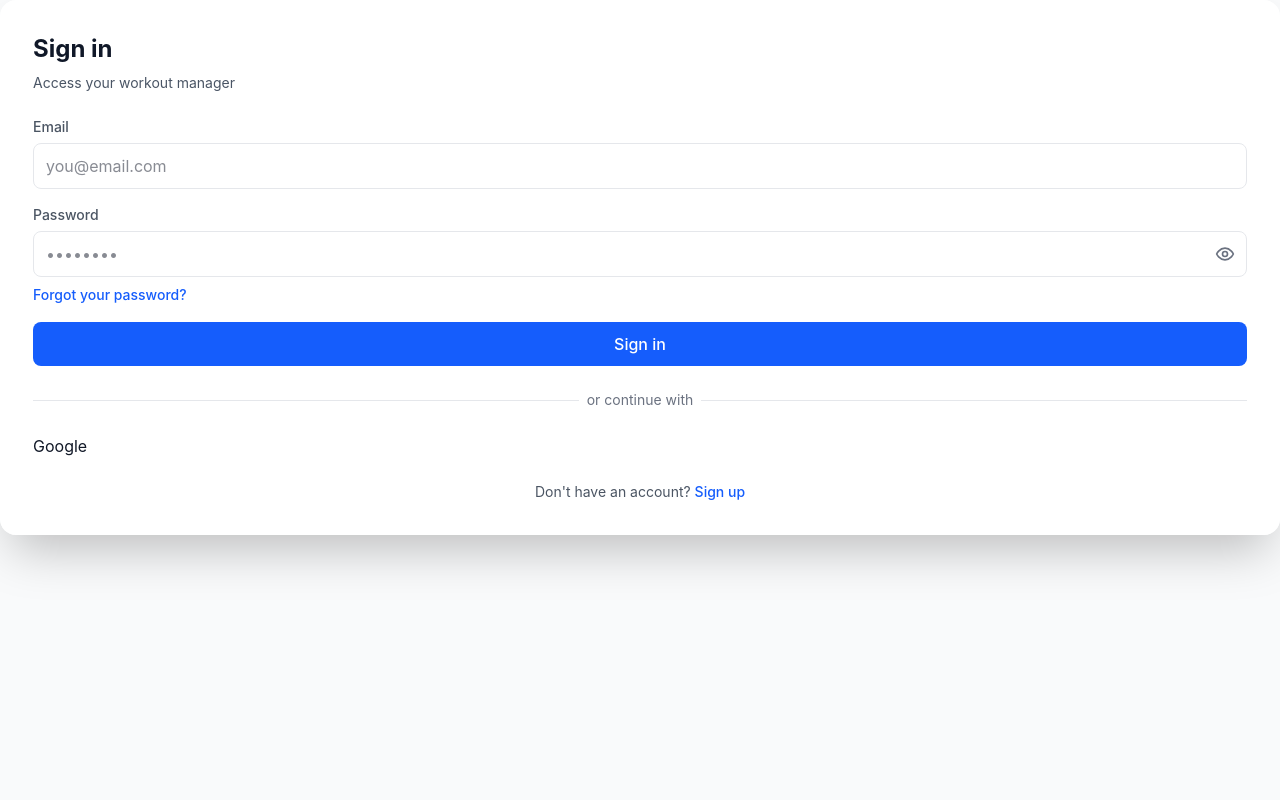
Test: LoginView › muestra aviso de verificación pendiente
The image size is (1280, 800).
Type "user@example.com" into the field with id "email" at (640, 166), box [33,143,1247,189]
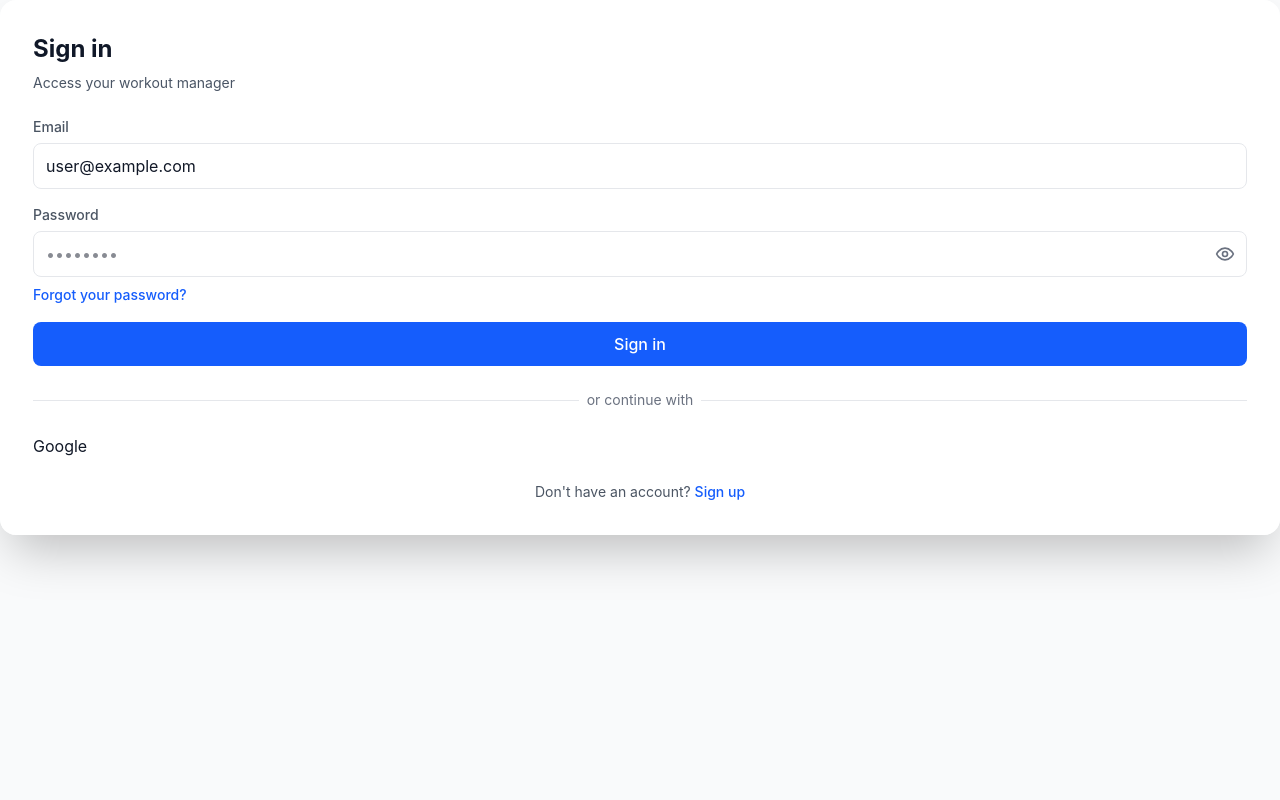
Type "secret123" into the password field labelled "Password" at (640, 254), box [33,231,1247,277]
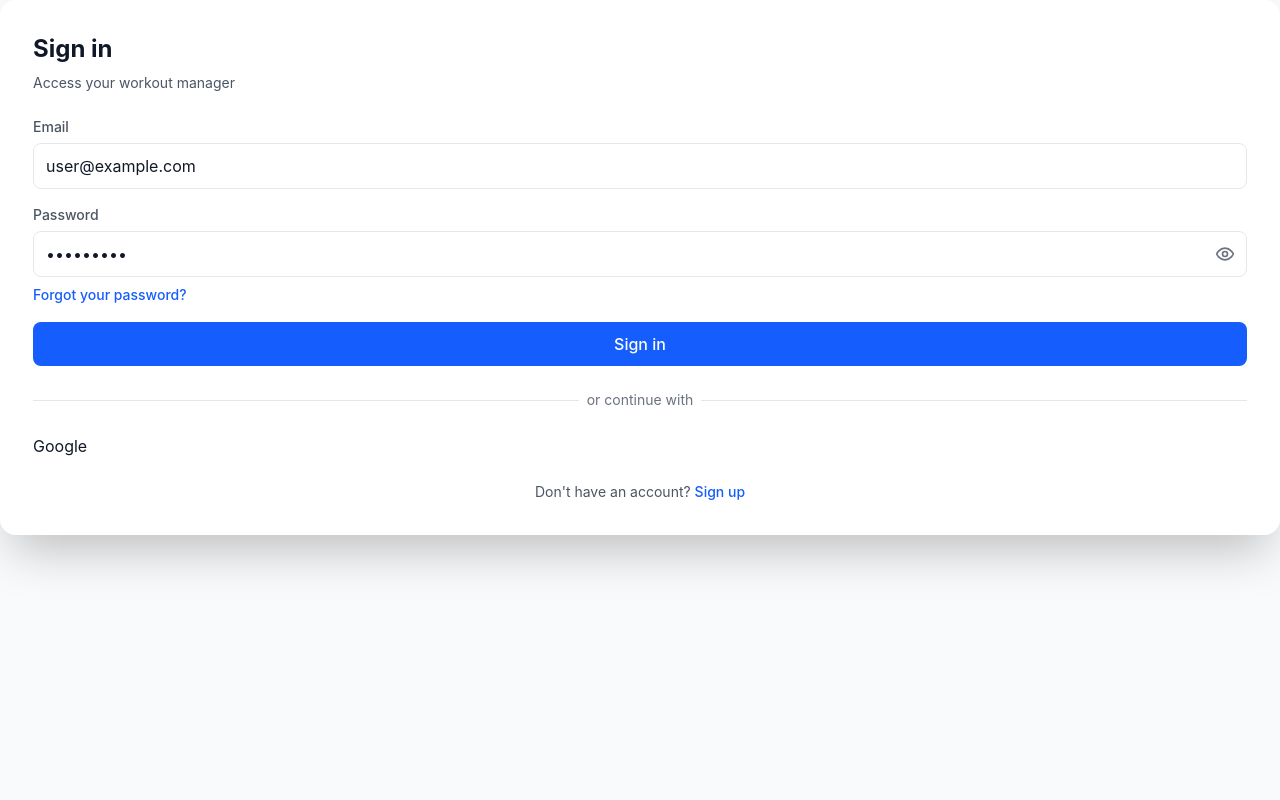
Submit the form, box [33,117,1247,366]
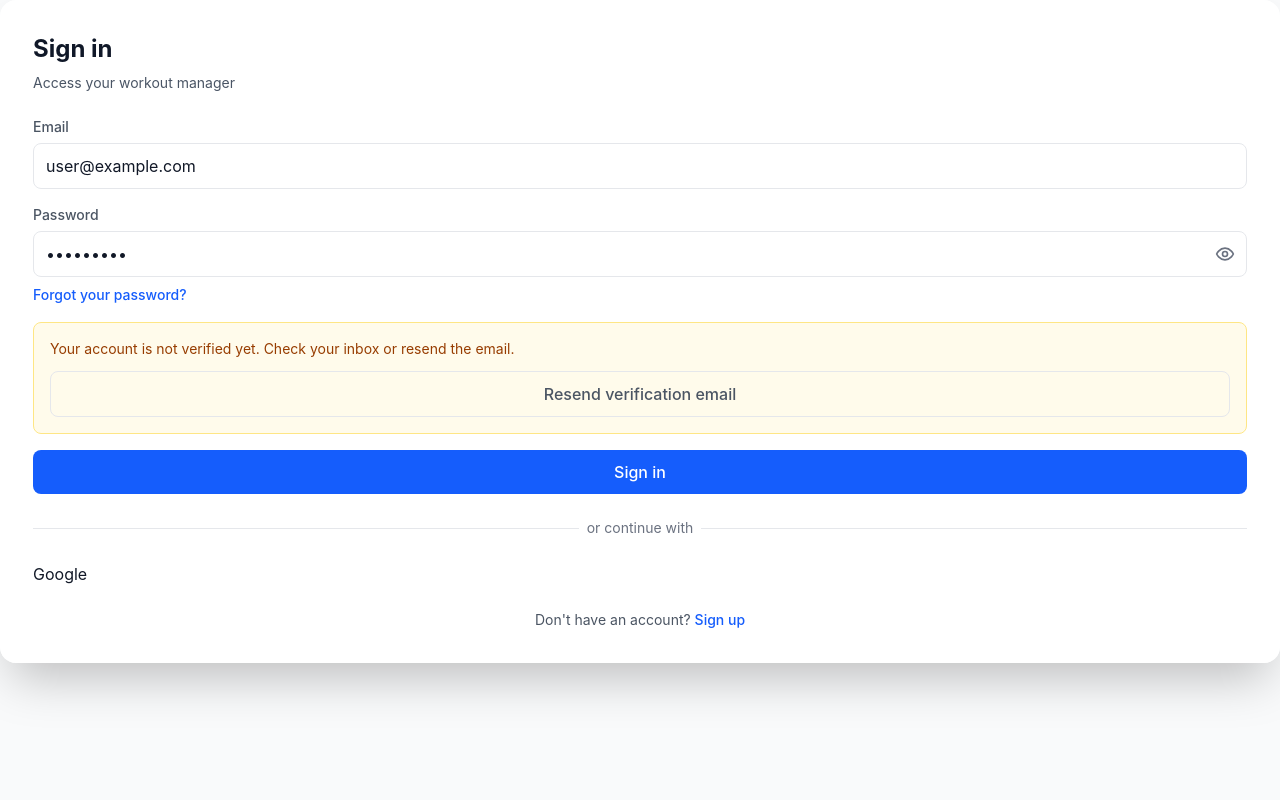
Expected: the text "Your account is not verified yet. Check your inbox or resend the email." is shown, [50,340,514,357]
